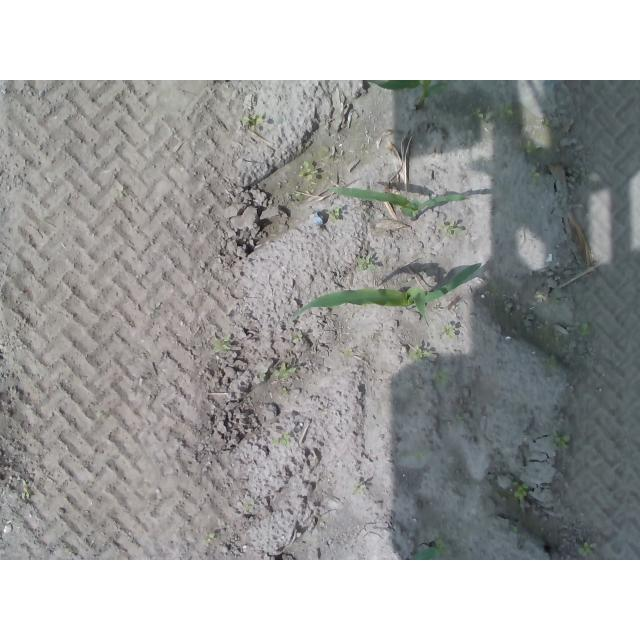Maize: (290, 262, 482, 314), (326, 187, 469, 222), (367, 80, 447, 109)
Weeds: (259, 364, 297, 382), (532, 290, 561, 305), (550, 430, 570, 450), (241, 112, 265, 128), (298, 157, 315, 179), (576, 541, 596, 557), (356, 256, 376, 272), (411, 346, 433, 360), (512, 481, 529, 499), (212, 335, 230, 351), (19, 479, 31, 500), (445, 223, 464, 236), (434, 371, 450, 386), (498, 102, 512, 119), (545, 355, 560, 370), (327, 207, 342, 222), (470, 106, 486, 119), (288, 331, 304, 343), (203, 530, 215, 545), (435, 536, 446, 552), (443, 324, 456, 337), (274, 435, 290, 445), (577, 321, 587, 336), (526, 171, 540, 180), (280, 387, 289, 396)
